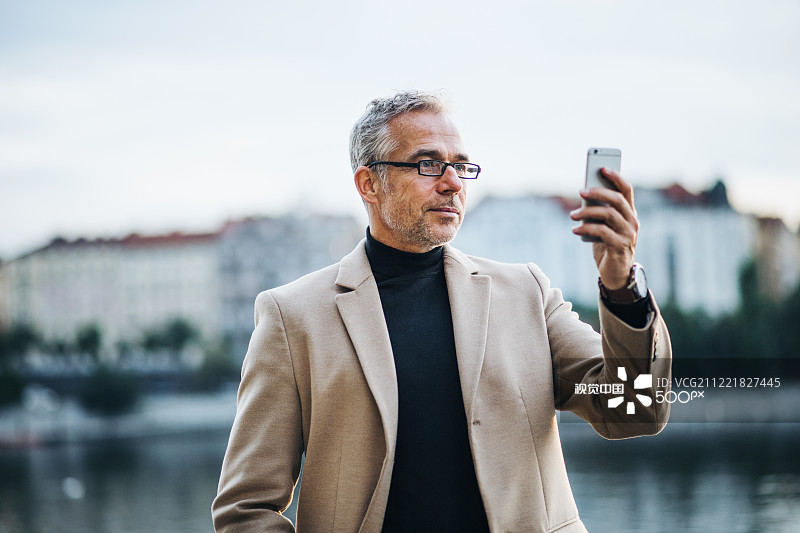taking photos: (557, 145, 661, 302)
